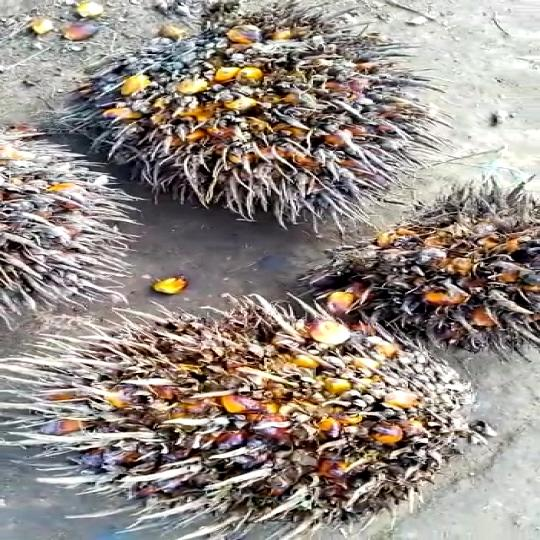terlalu masak: (0, 289, 492, 539), (46, 4, 435, 234)
